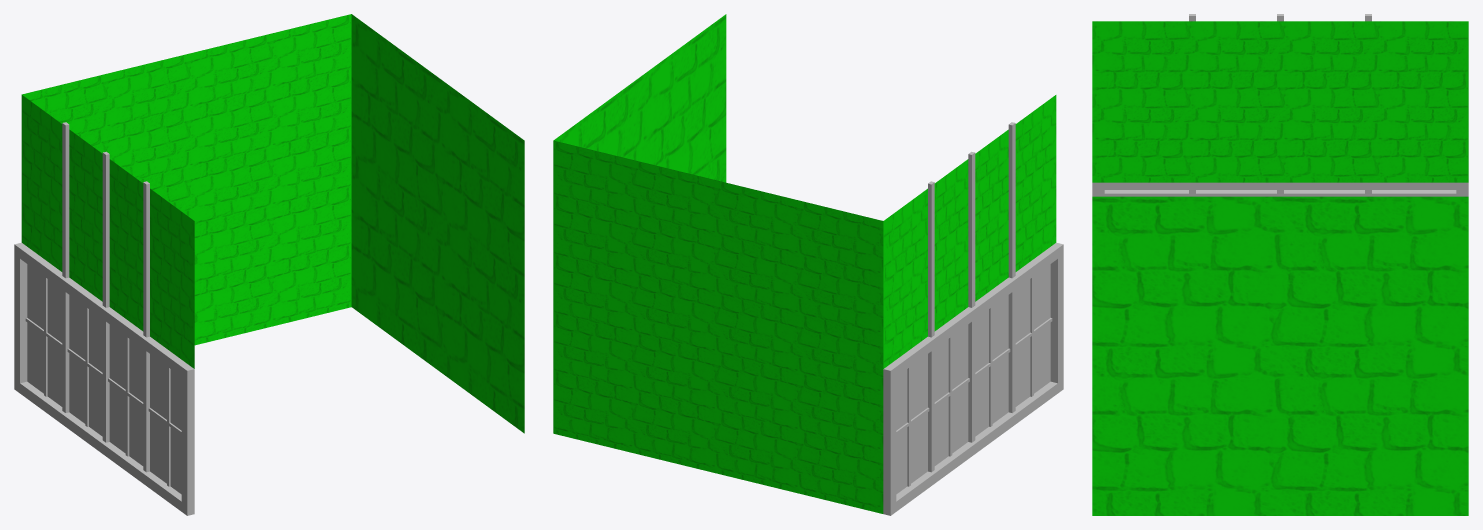
3 renders of one model, left to right at view 1: azimuth 30°, elevation 25°; view 2: azimuth 150°, elevation 25°; view 3: azimuth 270°, elevation 25°, orthographic. The views are drawn at different scales.
Visible parts, largest first — view 1: 별관_왼쪽 몸통, 별관_왼쪽 몸통_window, 별관_왼쪽 몸통_철, 별관_왼쪽 몸통_window_lorn, 별관_왼쪽 몸통_window_lrom; view 2: 별관_왼쪽 몸통, 별관_왼쪽 몸통_window, 별관_왼쪽 몸통_철, 별관_왼쪽 몸통_window_lorn, 별관_왼쪽 몸통_window_lrom; view 3: 별관_왼쪽 몸통, 별관_왼쪽 몸통_철, 별관_왼쪽 몸통_window, 별관_왼쪽 몸통_window_lorn.
Part boxes in pixels (bbox=[...]): 별관_왼쪽 몸통: bbox=[21, 14, 524, 433]; 별관_왼쪽 몸통_window: bbox=[27, 264, 181, 494]; 별관_왼쪽 몸통_철: bbox=[14, 242, 194, 515]; 별관_왼쪽 몸통_window_lorn: bbox=[62, 122, 149, 472]; 별관_왼쪽 몸통_window_lrom: bbox=[25, 276, 181, 486]; 별관_왼쪽 몸통: bbox=[553, 14, 1056, 513]; 별관_왼쪽 몸통_window: bbox=[896, 264, 1050, 494]; 별관_왼쪽 몸통_철: bbox=[883, 242, 1063, 515]; 별관_왼쪽 몸통_window_lorn: bbox=[928, 122, 1015, 472]; 별관_왼쪽 몸통_window_lrom: bbox=[896, 276, 1052, 486]; 별관_왼쪽 몸통: bbox=[1092, 21, 1468, 515]; 별관_왼쪽 몸통_철: bbox=[1092, 182, 1468, 196]; 별관_왼쪽 몸통_window: bbox=[1104, 193, 1456, 196]; 별관_왼쪽 몸통_window_lorn: bbox=[1189, 14, 1371, 196].
Size of the model in its own units: 341 by 288 by 303.
